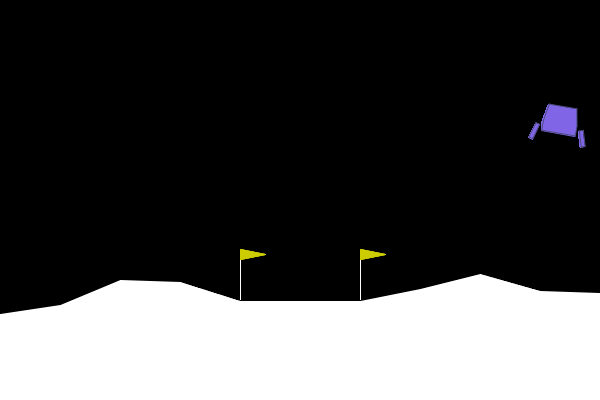lander: (527, 100, 592, 149)
